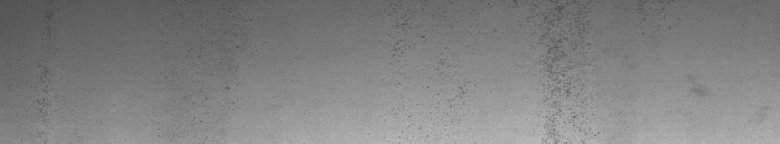ib: (390, 20, 464, 108)
